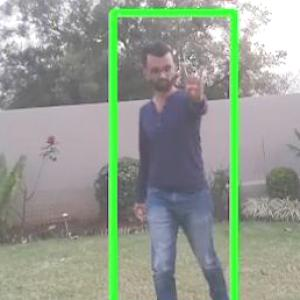takeoff-hand: (180, 58, 216, 101)
